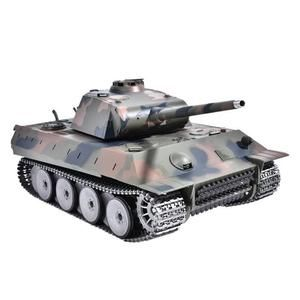Battle Tank: (10, 78, 290, 242)
